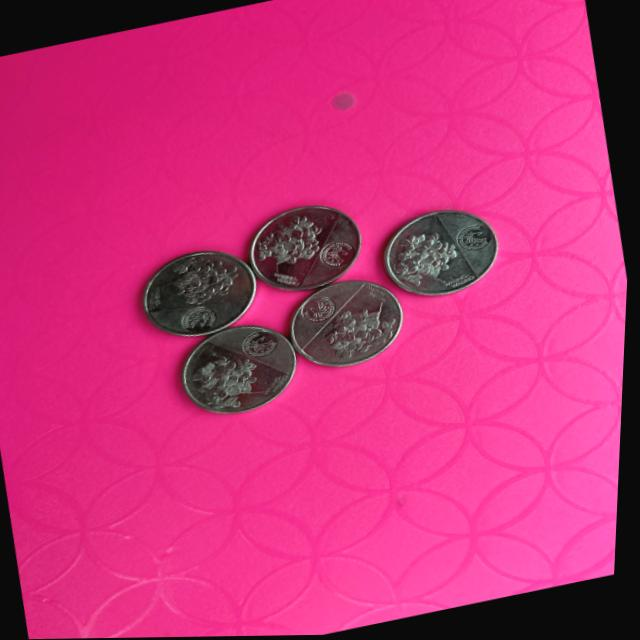1_New_Back: (386, 225, 469, 295), (325, 299, 403, 362)
